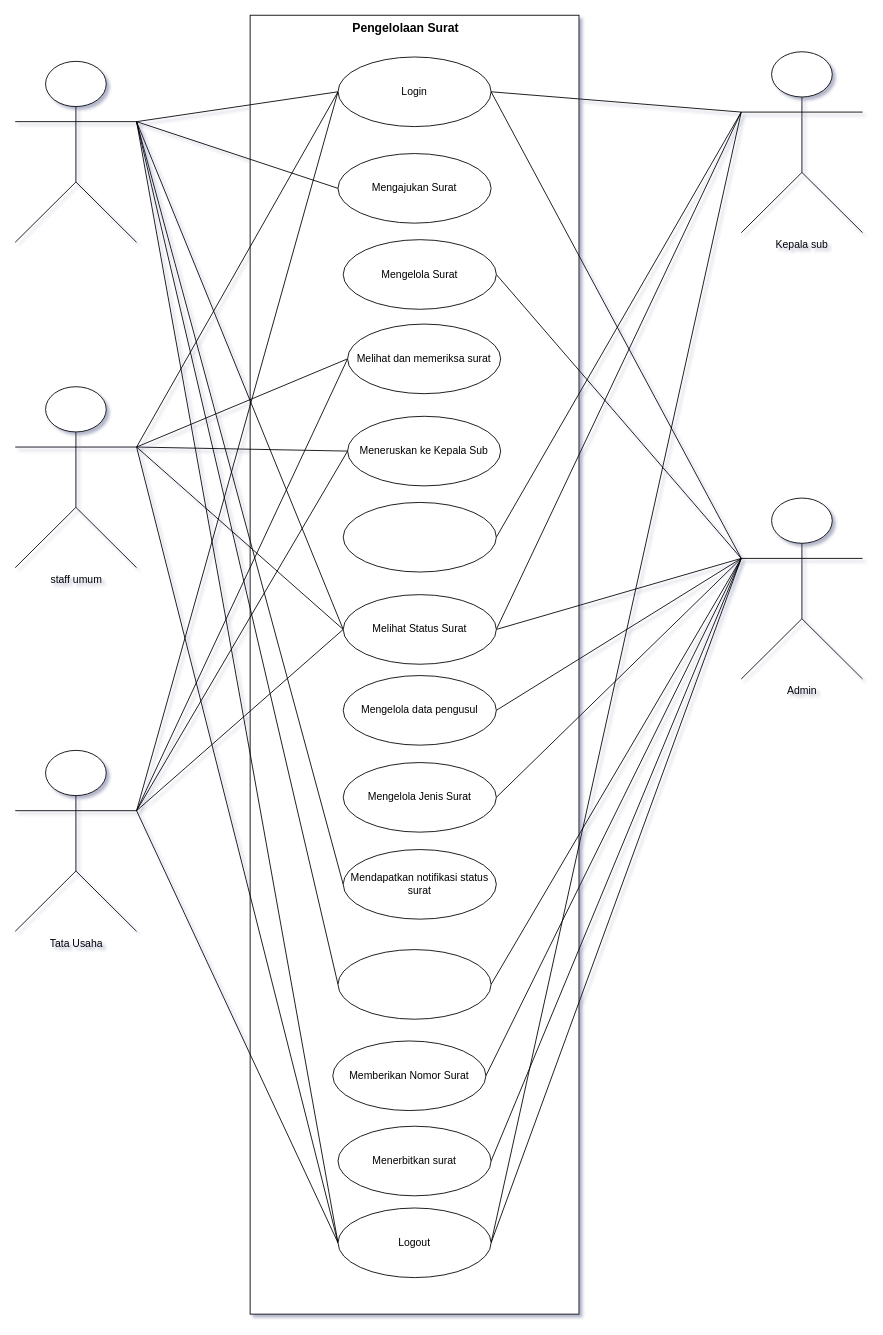
This 883x1335 diagram has some shape labels left out. The centre of each missing label's shape, as x and y in pixels:
"Mengunduh surat" belongs at [414,984].
"Menyetujui atau menolak surat" belongs at [419,537].
"Pengusul" belongs at [75,151].
